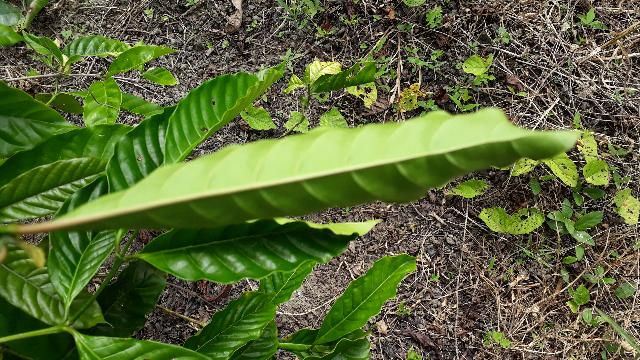healthy: (24, 104, 599, 235)
